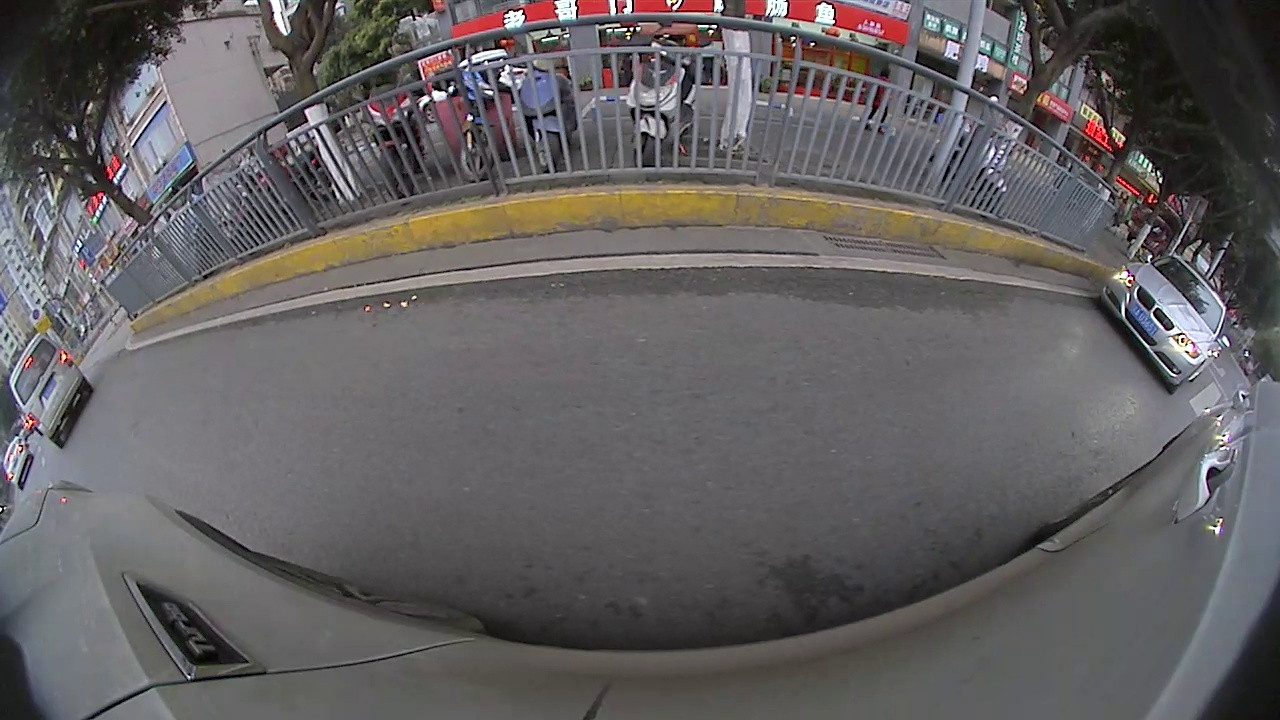car: (1094, 254, 1236, 401), (5, 333, 93, 451)
front: (459, 124, 500, 181)
rider: (614, 20, 709, 167), (514, 23, 587, 177), (441, 48, 514, 186), (355, 79, 428, 201)
